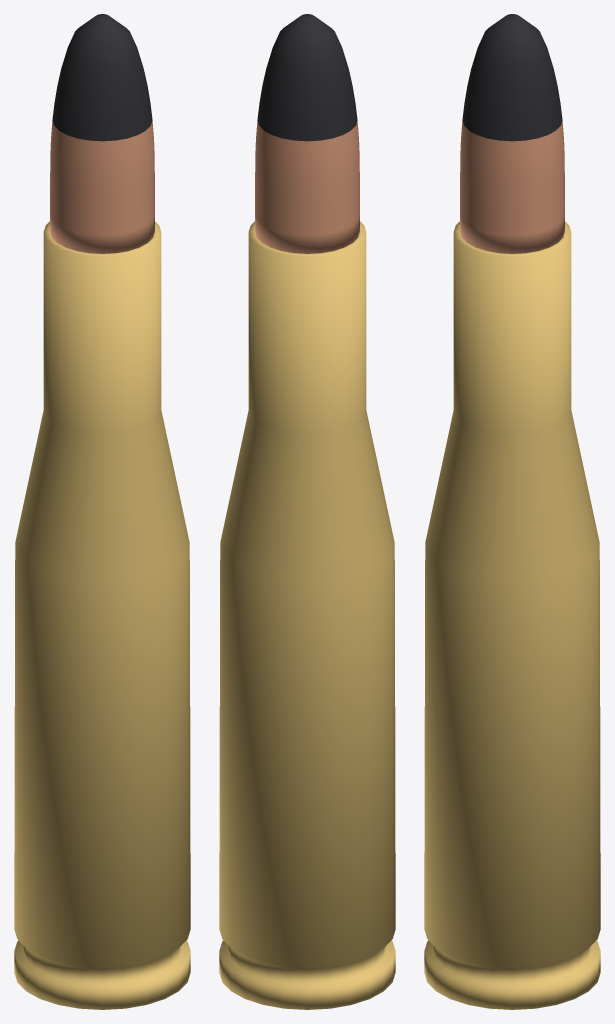
3 views of the same model, side by side, from view 1: azimuth 30°, elevation 25°; view 2: azimuth 150°, elevation 25°; view 3: azimuth 270°, elevation 25° (orthographic).
Visible parts, largest first — view 1: vaina, bala_cuerpo, punta; view 2: vaina, bala_cuerpo, punta; view 3: vaina, bala_cuerpo, punta.
Part boxes in pixels (x1,y1,x2,y2): vaina: [14, 221, 190, 1009]; bala_cuerpo: [50, 120, 154, 253]; punta: [52, 14, 152, 141]; vaina: [219, 221, 395, 1009]; bala_cuerpo: [255, 120, 359, 253]; punta: [257, 14, 357, 141]; vaina: [424, 221, 600, 1009]; bala_cuerpo: [460, 120, 564, 253]; punta: [462, 14, 562, 141].
Size of the model in its own units: 0.0096 by 0.0574 by 0.0096.
